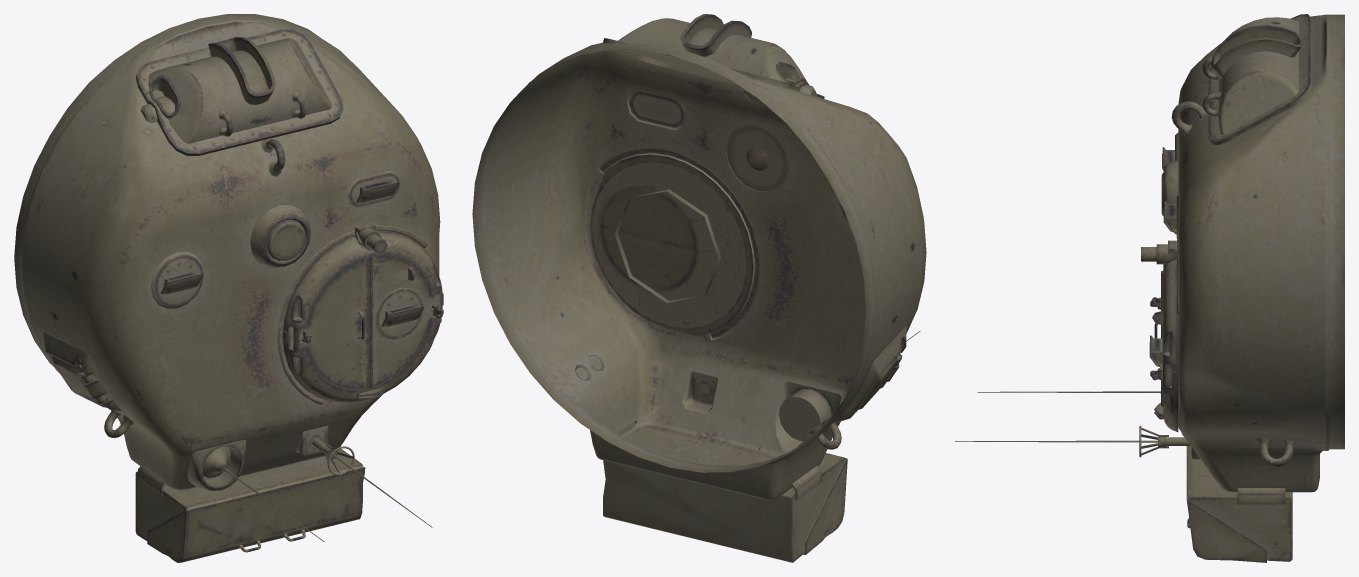
The model's file is Turret_01.glb.
3 renders of one model, left to right at view 1: azimuth 30°, elevation 25°; view 2: azimuth 150°, elevation 25°; view 3: azimuth 270°, elevation 25°, orthographic. The views are drawn at different scales.
Parts seen in each view (by area): view 1: set_0_group_0; view 2: set_0_group_0; view 3: set_0_group_0.
Boxes of the visible parts, x1,y1,x2,y2 form: set_0_group_0: (14,14,443,562); set_0_group_0: (472,14,926,562); set_0_group_0: (955,14,1344,562).
Size of the model in its own units: 2.1 by 2.61 by 1.87.
Materials: 1 (1 with a texture image).
